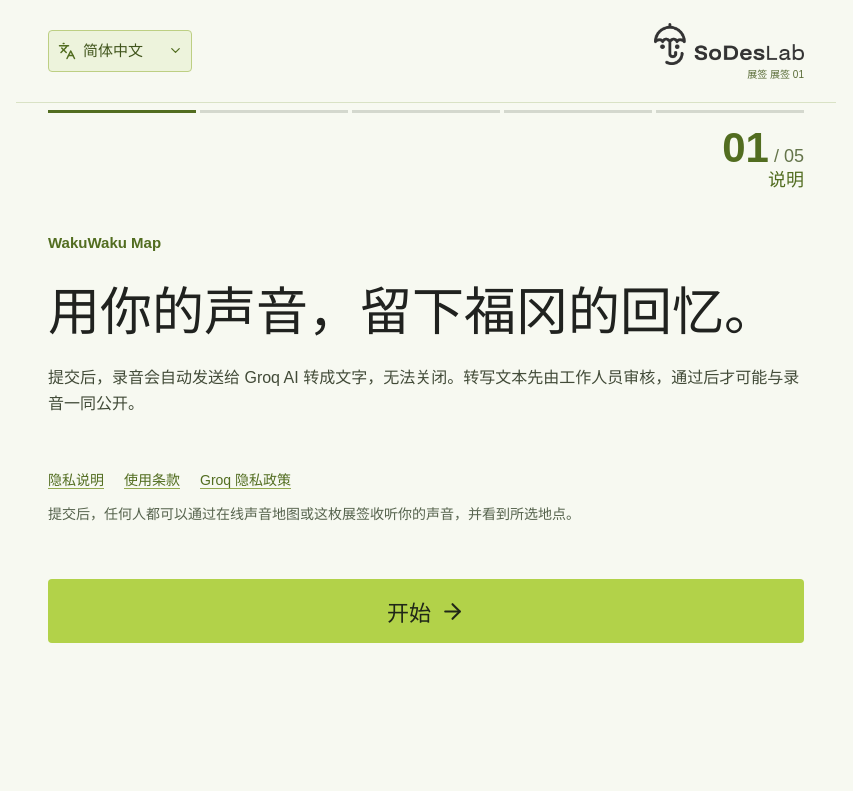
Test: visitor page › keeps maps out of the introduction and numbers the theme step
Check: the link "Groq 隐私政策" is shown, box [200, 469, 291, 489]
Check: the text "提交后，录音会自动发送给 Groq AI 转成文字，无法关闭。转写文本先由工作人员审核，通过后才可能与录音一同公开。" is shown, box [48, 364, 804, 417]
Click the button "开始" at (426, 611), box [48, 579, 804, 643]
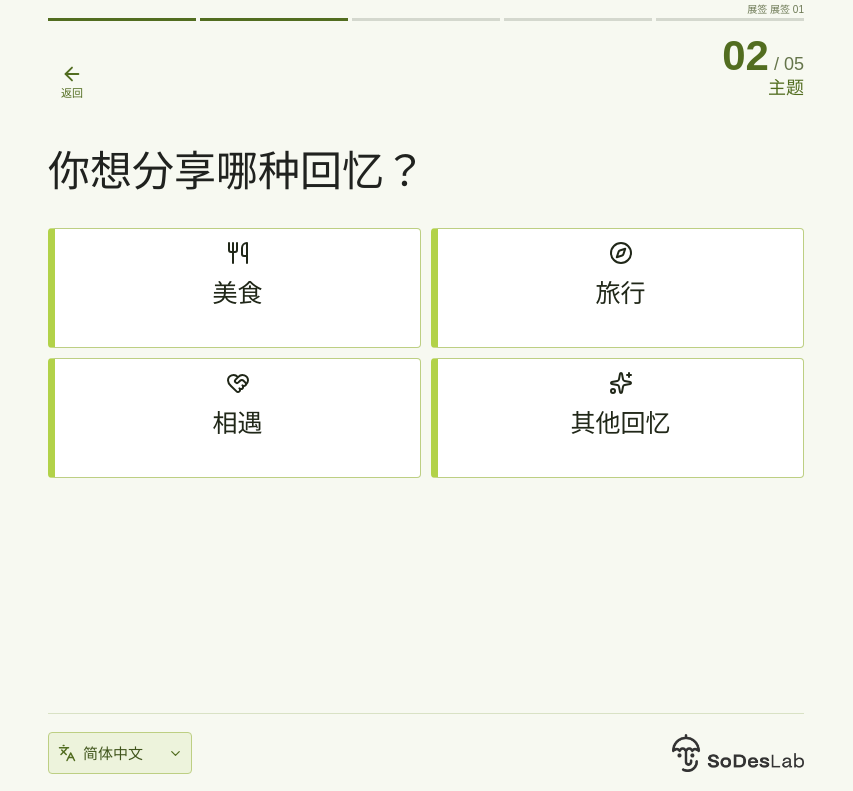
Check: the heading "你想分享哪种回忆？" is shown, box [48, 148, 426, 195]
Check: the button "其他回忆" is shown, box [431, 358, 804, 478]
Check: the button "返回" is shown, box [48, 45, 96, 99]
